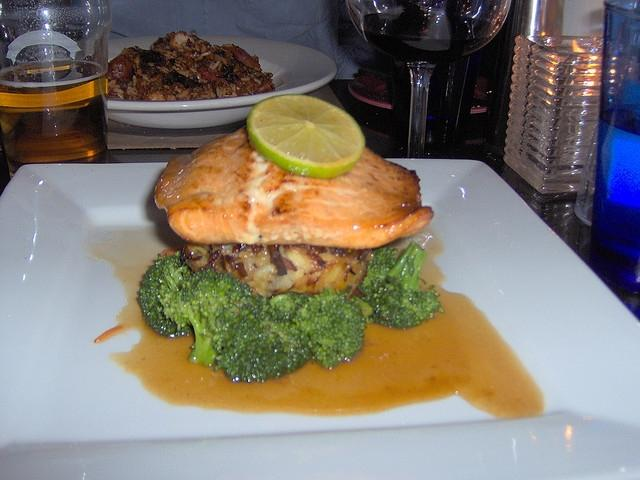broccoli: (208, 294, 314, 384), (358, 240, 444, 330), (164, 269, 240, 366), (292, 287, 366, 370), (138, 251, 190, 338)
